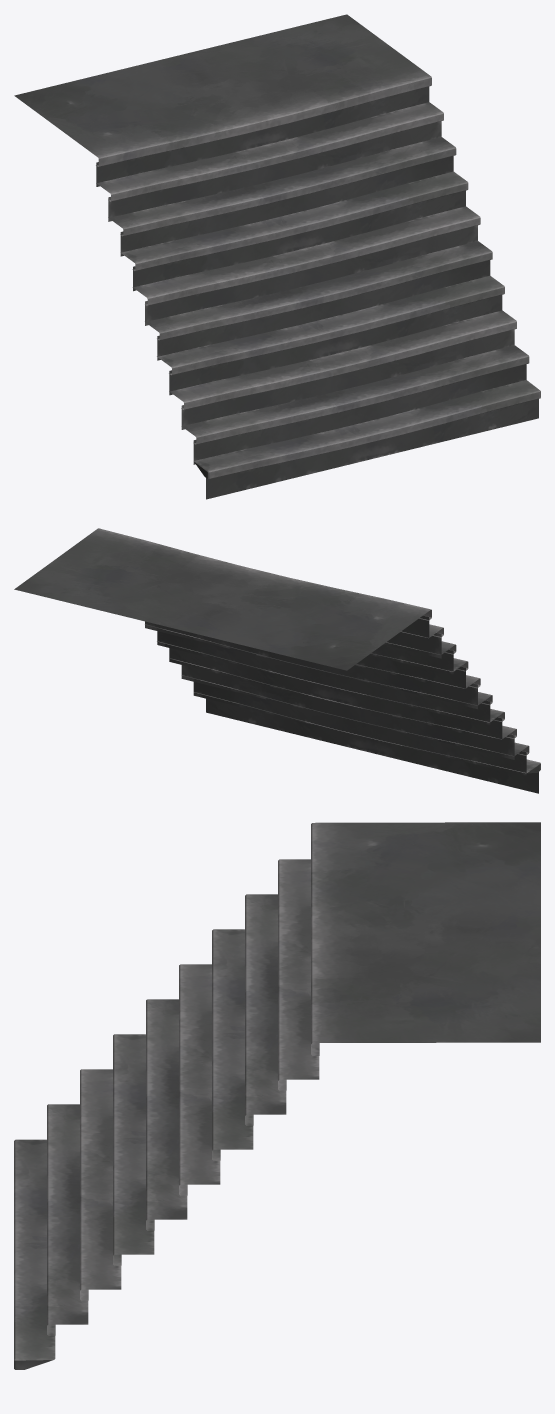
Rendered from Half steps.fbx.
3 views of the same model, one above another, from view 1: azimuth 30°, elevation 25°; view 2: azimuth 150°, elevation 25°; view 3: azimuth 270°, elevation 25° (orthographic). The views are drawn at different scales.
Visible parts, largest first — view 1: Half steps; view 2: Half steps; view 3: Half steps.
Boxes of the visible parts, x1,y1,x2,y2 form: Half steps: [14, 14, 540, 499]; Half steps: [14, 528, 540, 793]; Half steps: [14, 822, 540, 1369].
Size of the model in its own units: 200 by 152 by 203.
